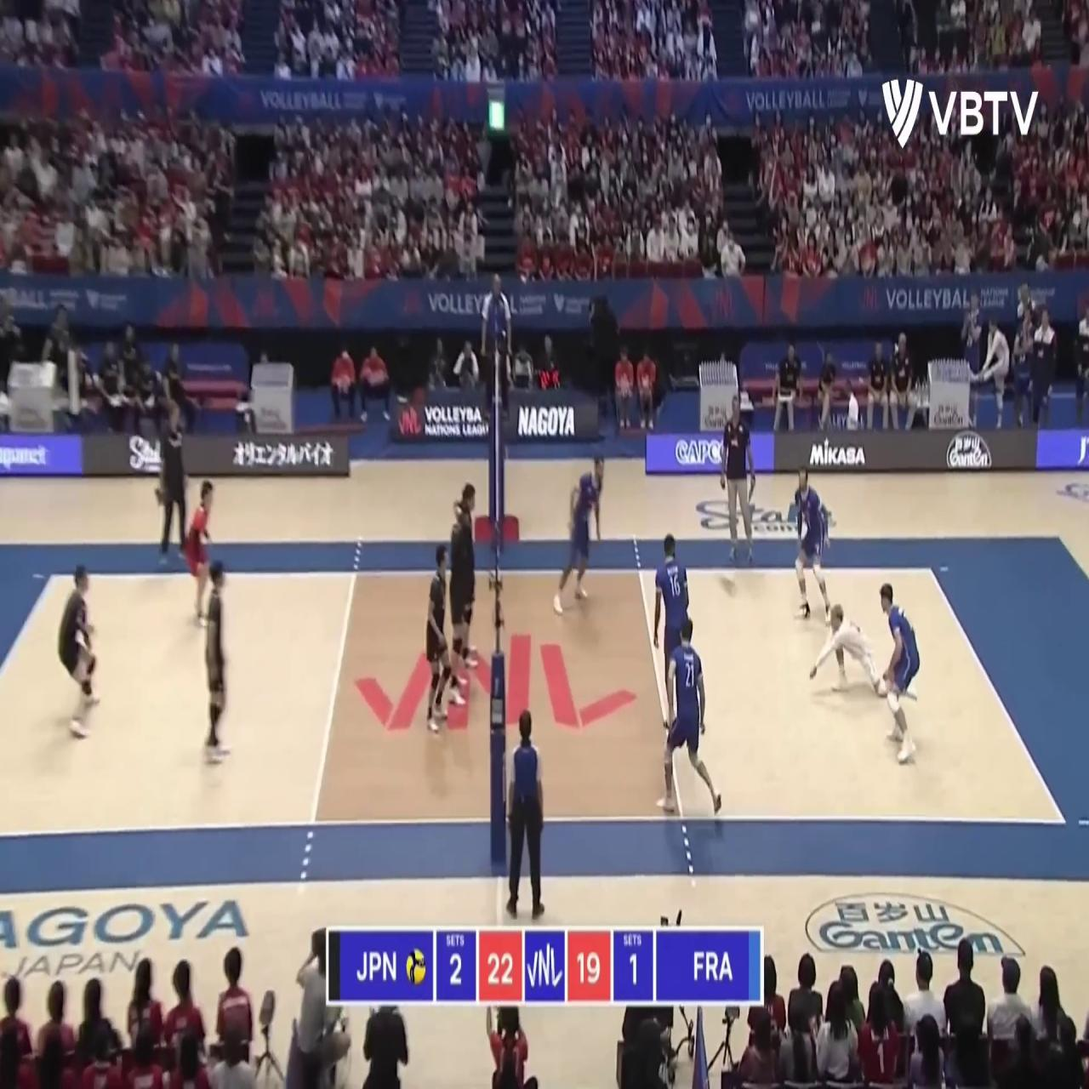ball: (718, 570, 739, 597)
